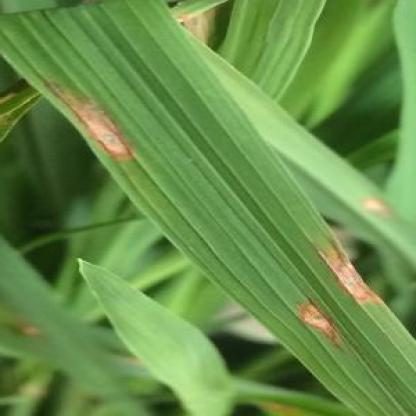Rice blast: (34, 76, 141, 178), (308, 226, 387, 312), (291, 296, 350, 352)
